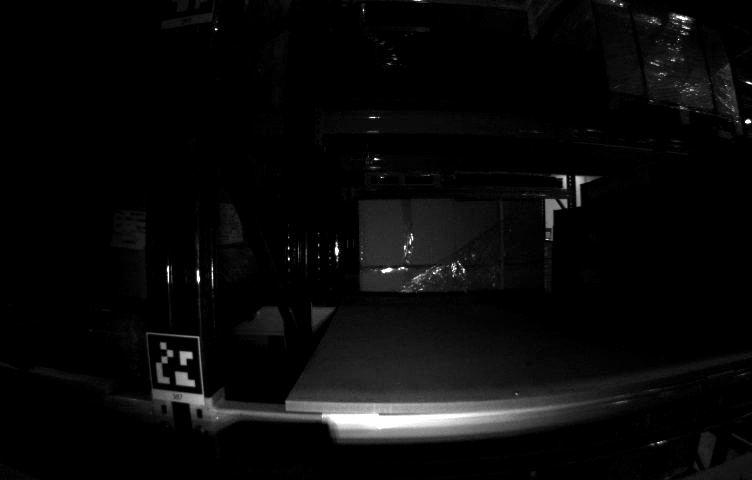True Barcode: (103, 206, 150, 249)
